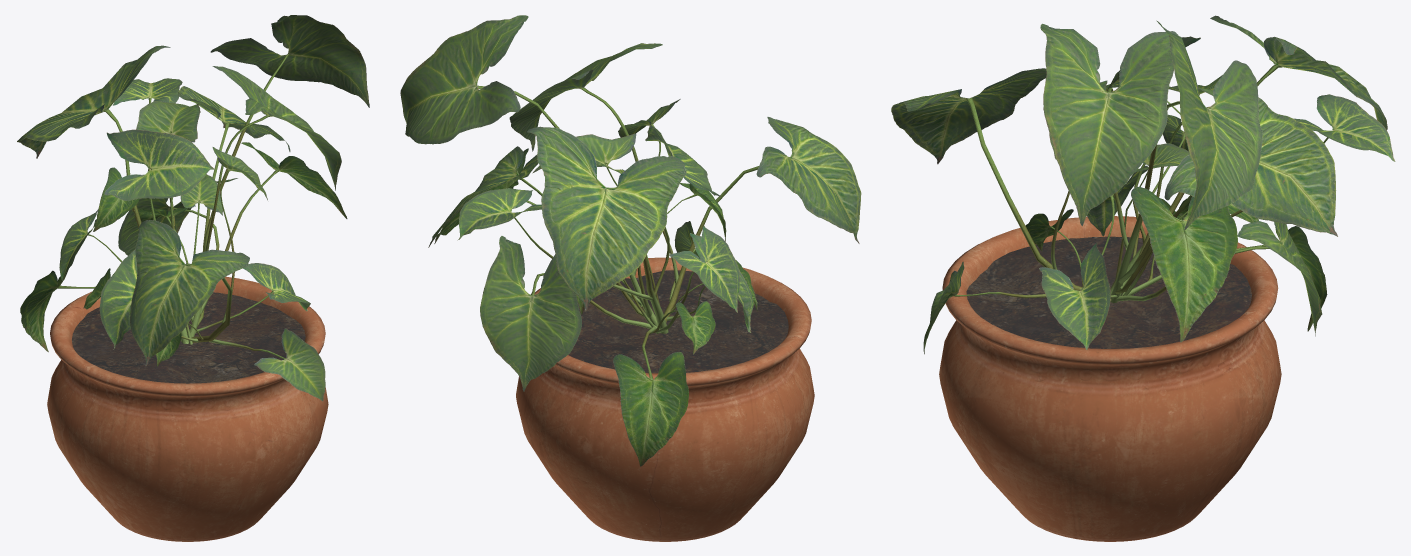
The model's file is SM_PlantPot01.fbx.
3 views of the same model, side by side, from view 1: azimuth 30°, elevation 25°; view 2: azimuth 150°, elevation 25°; view 3: azimuth 270°, elevation 25° (orthographic). The views are drawn at different scales.
Visible parts, largest first — view 1: SM_PlantPot01_LOD0; view 2: SM_PlantPot01_LOD0; view 3: SM_PlantPot01_LOD0.
Part boxes in pixels (box(x1,y1,x2,y2)): SM_PlantPot01_LOD0: box(17, 15, 369, 541); SM_PlantPot01_LOD0: box(400, 15, 861, 541); SM_PlantPot01_LOD0: box(891, 15, 1395, 541).
Bounding box in the file's own units: 65.57 × 69.97 × 84.06.
2 materials, 2 textured.
